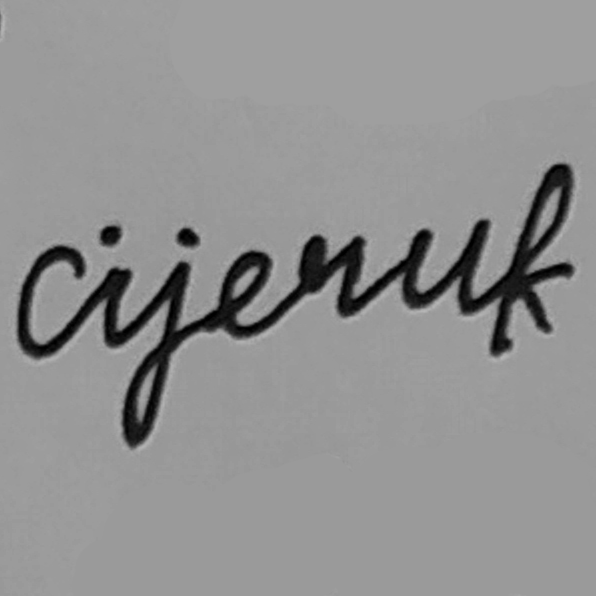c: (13, 242, 90, 359)
e: (212, 246, 279, 342)
i: (91, 218, 133, 354)
j: (120, 225, 204, 451)
k: (487, 161, 577, 357)
r: (292, 227, 373, 326)
u: (394, 215, 493, 315)
